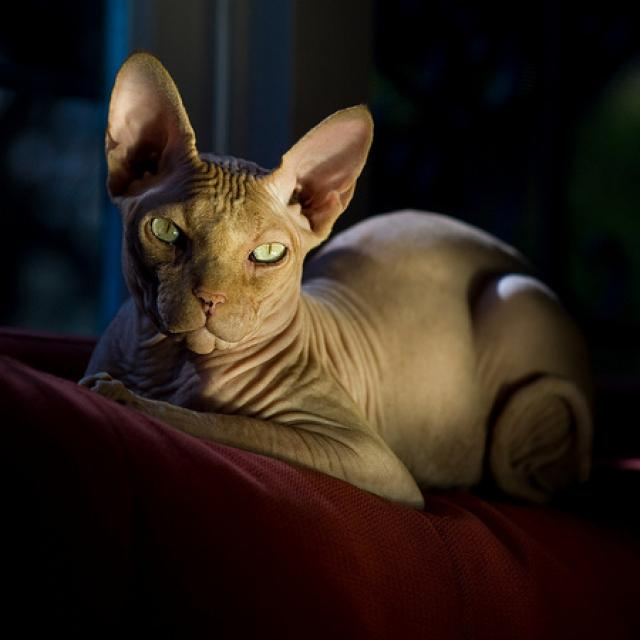Sphynx: (73, 46, 610, 521)
